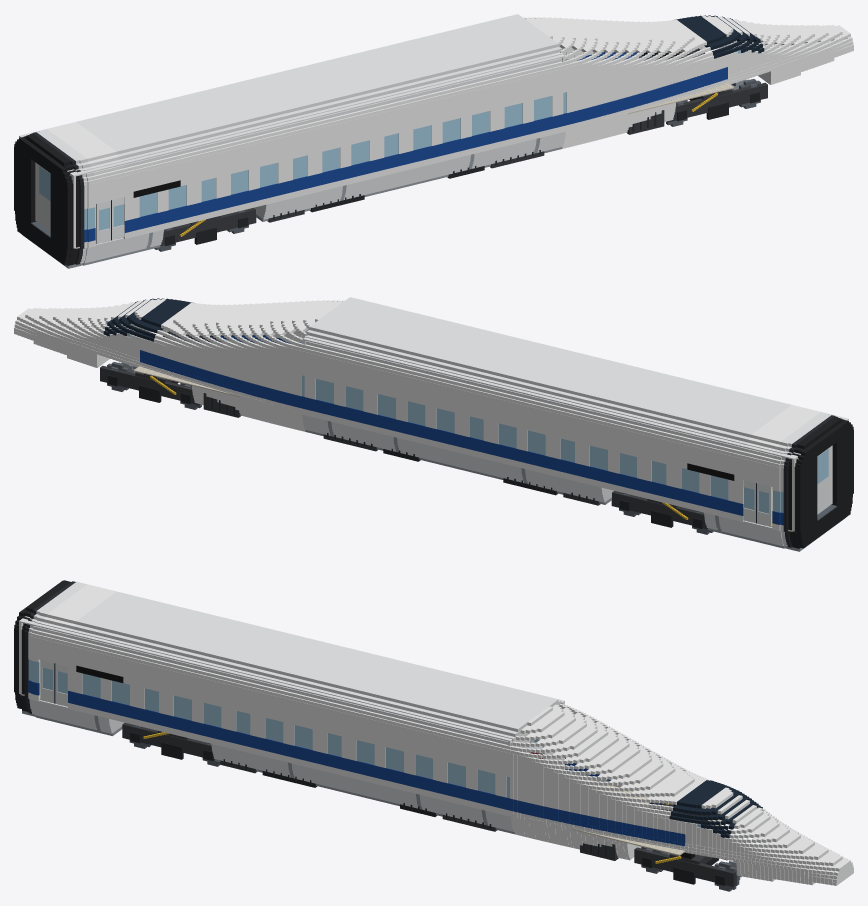
Rendered from n700s_front.obj.
3 views of the same model, one above another, from view 1: azimuth 30°, elevation 25°; view 2: azimuth 150°, elevation 25°; view 3: azimuth 330°, elevation 25° (orthographic).
Visible parts, largest first — view 1: SHELL, SHELL_diaphragm, SHELL_ceiling, BOGEY_FRONT, BOGEY_REAR, FRAME, CONNECTING_DOOR_1_CG_CR_TOGGLE_TL_0.98_Z, EXTERNAL_DOOR_3_CG_DR1_TOGGLE_TL_-0.44_X, EXTERNAL_DOOR_4_CG_DR1_TOGGLE_TL_0.44_X; view 2: SHELL, SHELL_diaphragm, SHELL_ceiling, BOGEY_FRONT, BOGEY_REAR, FRAME, CONNECTING_DOOR_1_CG_CR_TOGGLE_TL_0.98_Z, EXTERNAL_DOOR_6_CG_DL1_TOGGLE_TL_-0.44_X, EXTERNAL_DOOR_7_CG_DL1_TOGGLE_TL_0.44_X; view 3: SHELL, SHELL_ceiling, BOGEY_FRONT, BOGEY_REAR, FRAME, EXTERNAL_DOOR_3_CG_DR1_TOGGLE_TL_-0.44_X, SHELL_floor.
Boxes of the visible parts, box(x1,y1,x2,y2) form: SHELL: box(22, 14, 853, 268); SHELL_diaphragm: box(14, 137, 71, 265); SHELL_ceiling: box(21, 16, 562, 176); BOGEY_FRONT: box(667, 82, 767, 122); BOGEY_REAR: box(160, 208, 256, 246); FRAME: box(267, 110, 664, 222); CONNECTING_DOOR_1_CG_CR_TOGGLE_TL_0.98_Z: box(37, 164, 50, 231); EXTERNAL_DOOR_3_CG_DR1_TOGGLE_TL_-0.44_X: box(96, 200, 111, 243); EXTERNAL_DOOR_4_CG_DR1_TOGGLE_TL_0.44_X: box(112, 197, 124, 239); SHELL: box(14, 297, 845, 551); SHELL_diaphragm: box(796, 420, 853, 548); SHELL_ceiling: box(305, 299, 846, 459); BOGEY_FRONT: box(100, 365, 200, 405); BOGEY_REAR: box(611, 491, 707, 529); FRAME: box(203, 393, 600, 505); CONNECTING_DOOR_1_CG_CR_TOGGLE_TL_0.98_Z: box(817, 447, 830, 514); EXTERNAL_DOOR_6_CG_DL1_TOGGLE_TL_-0.44_X: box(756, 483, 771, 526); EXTERNAL_DOOR_7_CG_DL1_TOGGLE_TL_0.44_X: box(743, 480, 755, 522); SHELL: box(18, 580, 853, 885); SHELL_ceiling: box(20, 581, 561, 741); BOGEY_FRONT: box(634, 829, 736, 886); BOGEY_REAR: box(122, 723, 214, 760); FRAME: box(220, 759, 618, 860); EXTERNAL_DOOR_3_CG_DR1_TOGGLE_TL_-0.44_X: box(40, 660, 55, 703); SHELL_floor: box(21, 681, 721, 855).
Bounding box in the file's own units: 27.51 × 3.85 × 3.4.
Materials: 1 (1 with a texture image).
